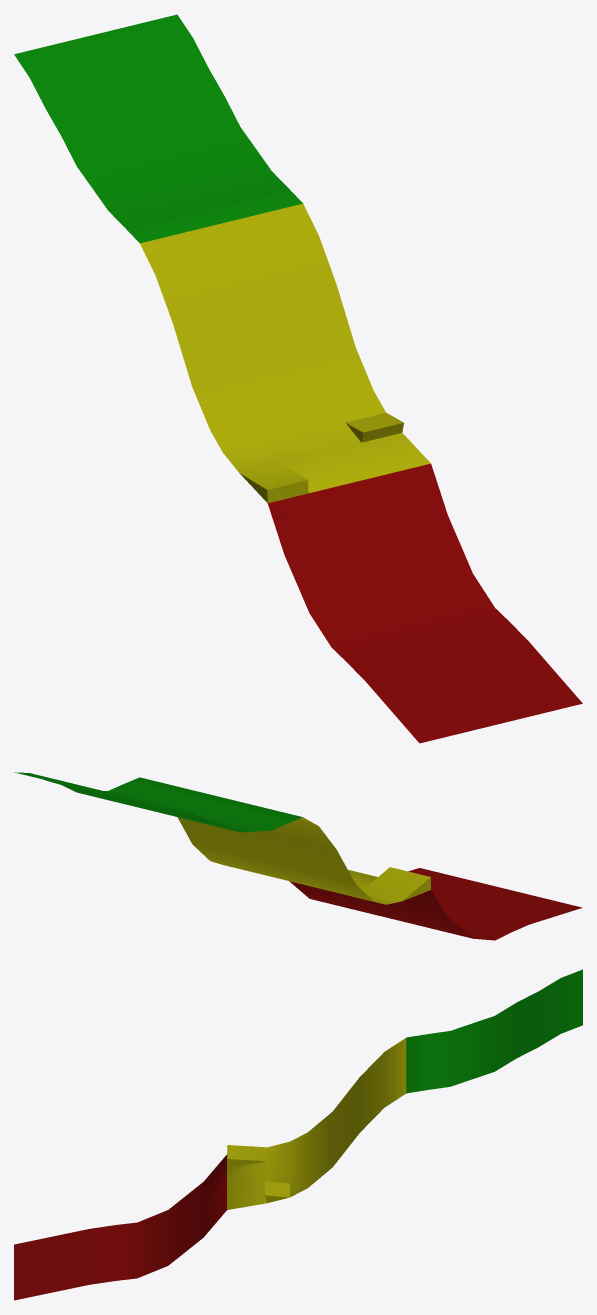
File: slope_2.fbx
3 renders of one model, top to bottom at view 1: azimuth 30°, elevation 25°; view 2: azimuth 150°, elevation 25°; view 3: azimuth 270°, elevation 25°, orthographic. The views are drawn at different scales.
Visible parts, largest first — view 1: slope; view 2: slope; view 3: slope.
Part boxes in pixels (x1,y1,x2,y2): slope: [14, 14, 582, 743]; slope: [14, 772, 582, 940]; slope: [14, 969, 582, 1300].
Bounding box in the file's own units: 1000 × 2294 × 4298.
